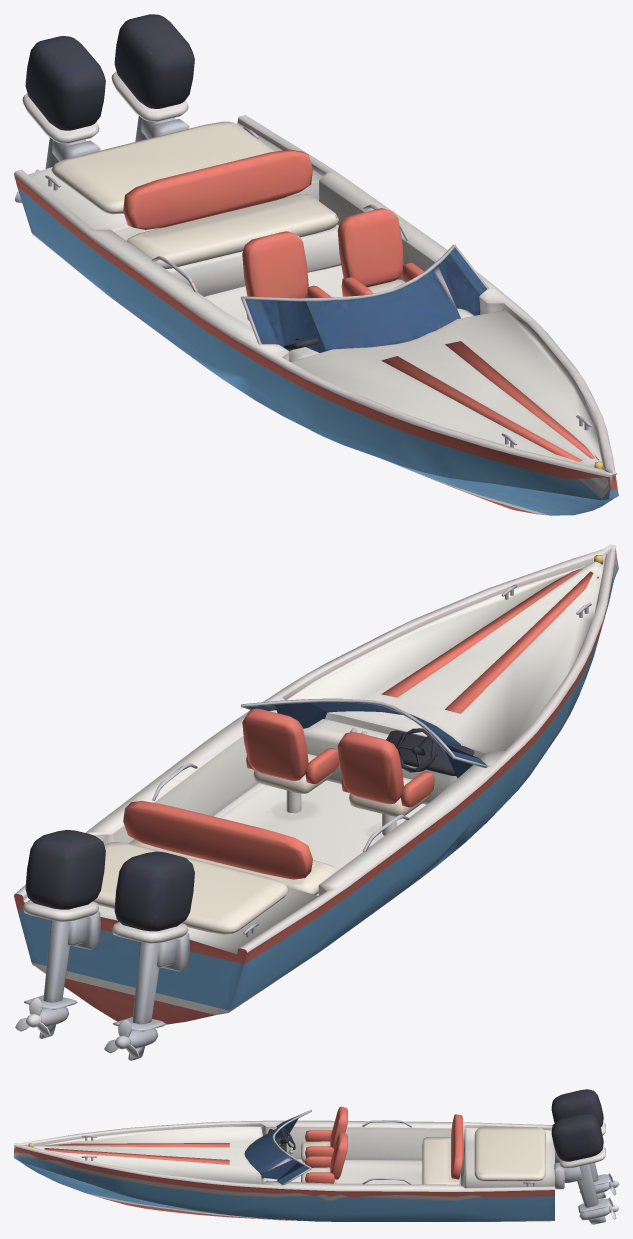
The model's file is speedboat.glb.
3 renders of one model, top to bottom at view 1: azimuth 30°, elevation 25°; view 2: azimuth 150°, elevation 25°; view 3: azimuth 270°, elevation 25°, orthographic. The views are drawn at different scales.
Visible parts, largest first — view 1: speedboat_body; view 2: speedboat_body, speedboat_steering_wheel; view 3: speedboat_body.
Part boxes in pixels (left/top/right/bottom): speedboat_body: left=14, top=14, right=618, bottom=515; speedboat_body: left=14, top=544, right=618, bottom=1060; speedboat_steering_wheel: left=396, top=728, right=436, bottom=772; speedboat_body: left=14, top=1089, right=610, bottom=1224.
Bounding box in the file's own units: 2.4 × 1.85 × 8.84.
3 materials, 1 textured.
